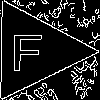F: (9, 25, 45, 71)
